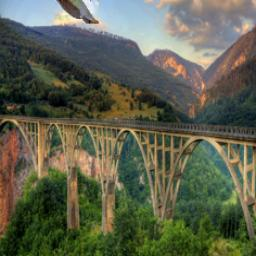Cuckoo: (51, 0, 100, 24)
